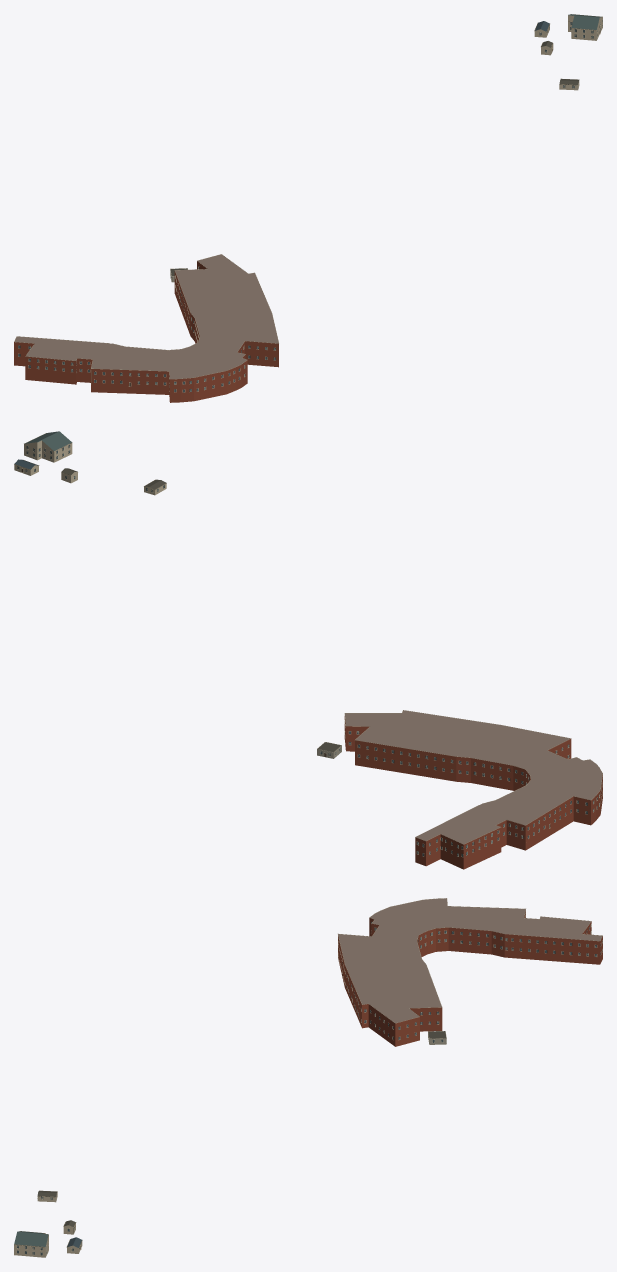
3 renders of one model, top to bottom at view 1: azimuth 90°, elevation 25°; view 2: azimuth 150°, elevation 25°; view 3: azimuth 270°, elevation 25°, orthographic. The views are drawn at different scales.
Parts seen in each view (by area): view 1: -2_1_318287795_0, -2_1_656850720_4; view 2: -2_1_318287795_0, -2_1_656850720_4; view 3: -2_1_318287795_0, -2_1_656850720_4.
Part boxes in pixels (left/top/right/bottom): -2_1_318287795_0: left=14, top=14, right=602, bottom=392; -2_1_656850720_4: left=14, top=261, right=278, bottom=402; -2_1_318287795_0: left=14, top=431, right=602, bottom=857; -2_1_656850720_4: left=344, top=716, right=602, bottom=869; -2_1_318287795_0: left=14, top=898, right=602, bottom=1257; -2_1_656850720_4: left=338, top=911, right=602, bottom=1046.
Bounding box in the file's own units: 483 × 23.8 × 337.
